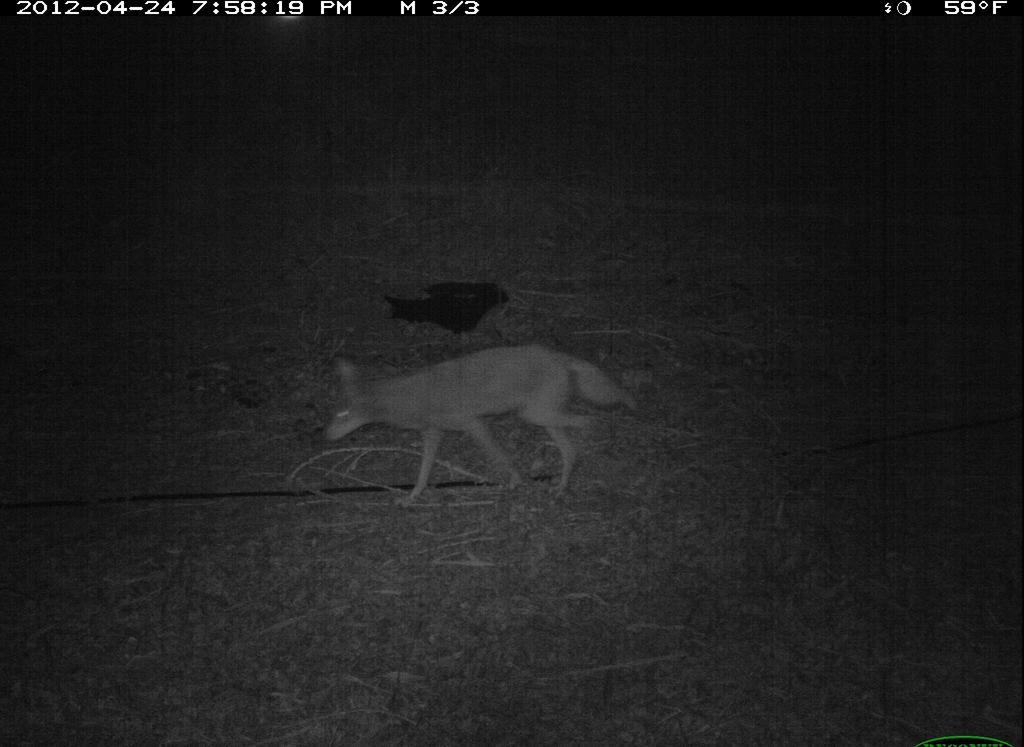coyote: (315, 336, 655, 520)
